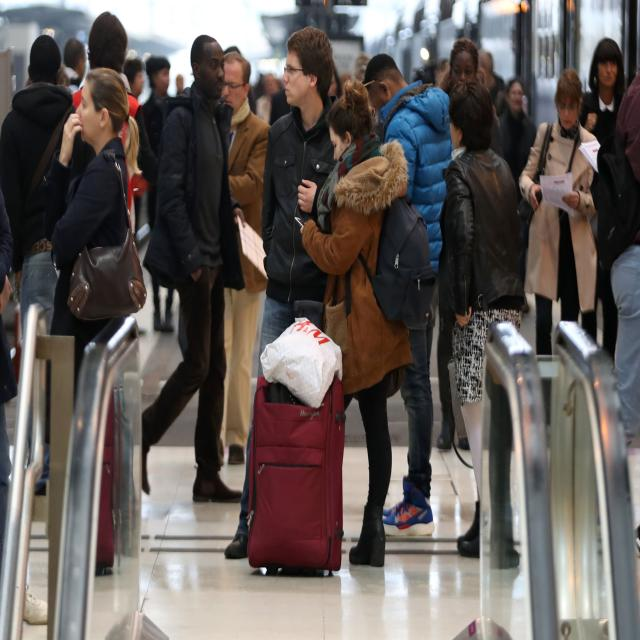body: (222, 22, 354, 578), (298, 80, 416, 572), (131, 31, 249, 512), (361, 53, 453, 537), (439, 78, 531, 558), (0, 34, 78, 498), (50, 66, 148, 412), (433, 36, 504, 452), (518, 67, 598, 356), (218, 49, 273, 467), (596, 64, 640, 558), (73, 11, 158, 230), (579, 36, 626, 363), (402, 36, 539, 132), (140, 58, 176, 332), (0, 184, 24, 563), (219, 35, 310, 125), (316, 40, 390, 126), (495, 77, 539, 205), (126, 52, 196, 97), (35, 58, 76, 101), (541, 23, 568, 79), (60, 36, 86, 94), (120, 52, 146, 103), (176, 75, 184, 97)
